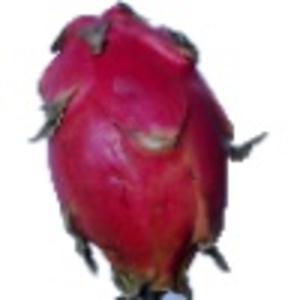pitaia: (29, 1, 266, 300)
